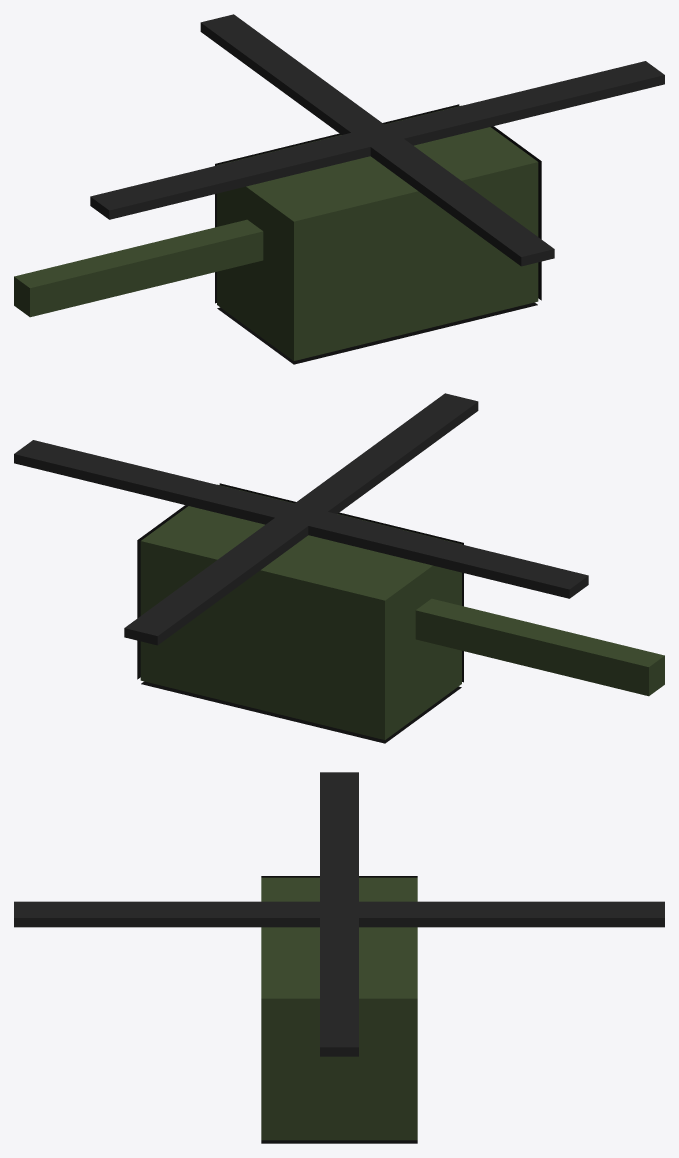
The model's file is streak_attack_heli.glb.
The picture shows the model from 3 angles, top to bottom: view 1: azimuth 30°, elevation 25°; view 2: azimuth 150°, elevation 25°; view 3: azimuth 270°, elevation 25°; orthographic projection.
Visible parts, largest first — view 1: streak_attack_heli__part_1, streak_attack_heli__part_5, streak_attack_heli__part_6, streak_attack_heli__part_3, streak_attack_heli__outline_2; view 2: streak_attack_heli__part_1, streak_attack_heli__part_5, streak_attack_heli__part_6, streak_attack_heli__part_3, streak_attack_heli__outline_2; view 3: streak_attack_heli__part_1, streak_attack_heli__part_6, streak_attack_heli__part_5, streak_attack_heli__outline_2.
Boxes of the visible parts, x1,y1,x2,y2 form: streak_attack_heli__part_1: [217, 105, 538, 360]; streak_attack_heli__part_5: [90, 61, 664, 219]; streak_attack_heli__part_6: [200, 14, 554, 266]; streak_attack_heli__part_3: [14, 219, 263, 317]; streak_attack_heli__outline_2: [215, 104, 541, 364]; streak_attack_heli__part_1: [140, 484, 461, 739]; streak_attack_heli__part_5: [14, 440, 588, 598]; streak_attack_heli__part_6: [124, 393, 478, 645]; streak_attack_heli__part_3: [415, 598, 664, 696]; streak_attack_heli__outline_2: [137, 483, 463, 743]; streak_attack_heli__part_1: [261, 877, 417, 1140]; streak_attack_heli__part_6: [14, 901, 664, 927]; streak_attack_heli__part_5: [320, 772, 358, 1056]; streak_attack_heli__outline_2: [261, 876, 417, 1143].
Size of the model in its own units: 5.7 by 1.47 by 5.
